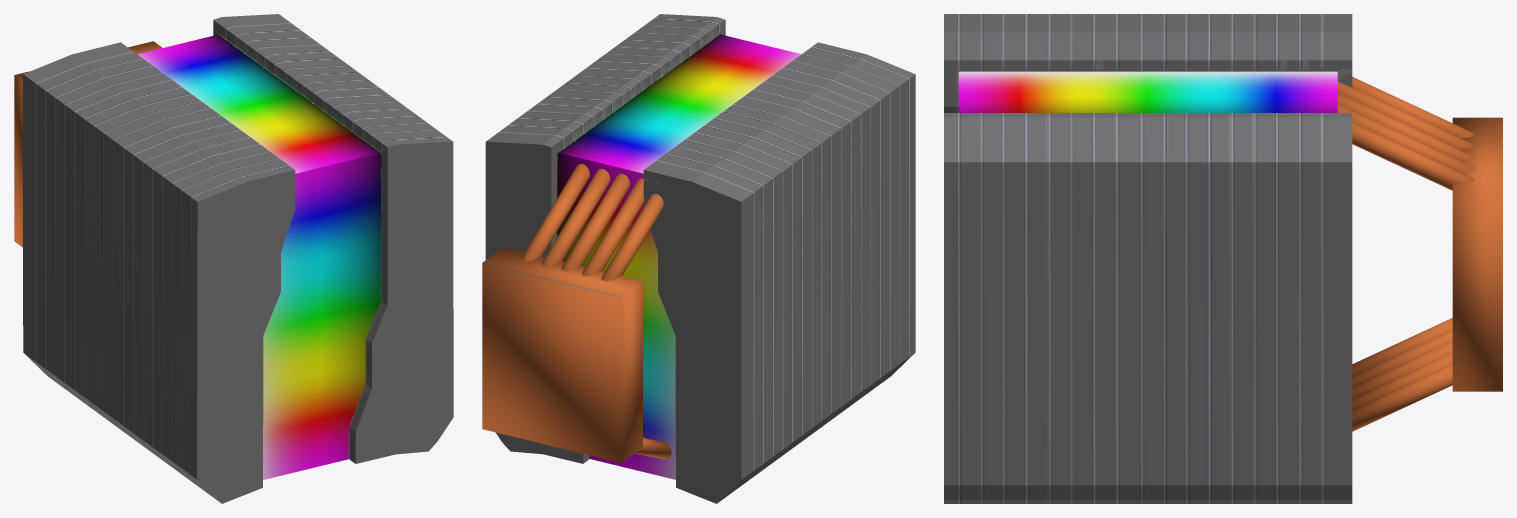
Rendered from Culler.fbx.
The picture shows the model from 3 angles, left to right: view 1: azimuth 30°, elevation 25°; view 2: azimuth 150°, elevation 25°; view 3: azimuth 270°, elevation 25°; orthographic projection. The views are drawn at different scales.
Visible parts, largest first — view 1: Culler; view 2: Culler; view 3: Culler.
Part boxes in pixels (x1,y1,x2,y2): Culler: (14,14,453,503); Culler: (482,14,915,503); Culler: (944,14,1502,503).
Size of the model in its own units: 26.52 by 31.32 by 42.77.
Materials: 1 (1 with a texture image).
